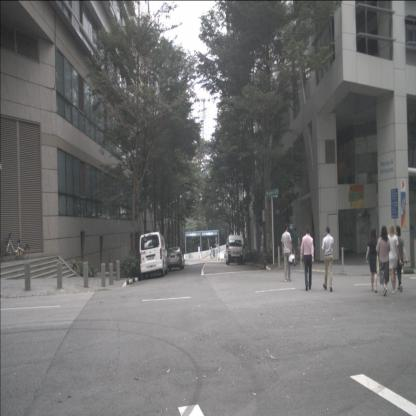human-pedestrian-adult: (385, 224, 404, 294), (376, 225, 390, 296), (393, 226, 408, 292), (366, 227, 380, 293), (300, 226, 314, 291), (281, 223, 295, 282), (322, 226, 334, 292), (291, 226, 300, 266)
vehicle-bicycle: (1, 232, 30, 262)
vehicle-car: (139, 232, 168, 280), (226, 235, 243, 265), (166, 247, 184, 271)
